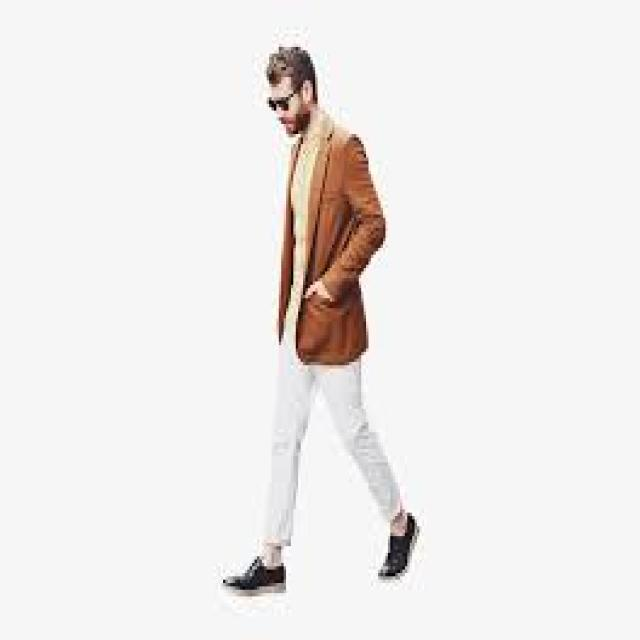nonfall: (223, 35, 413, 605)
